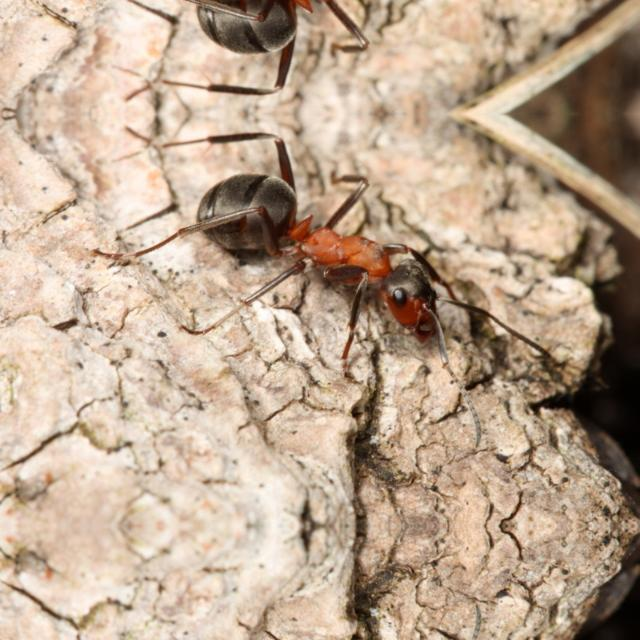Formica: (162, 136, 482, 368), (162, 0, 482, 88)
